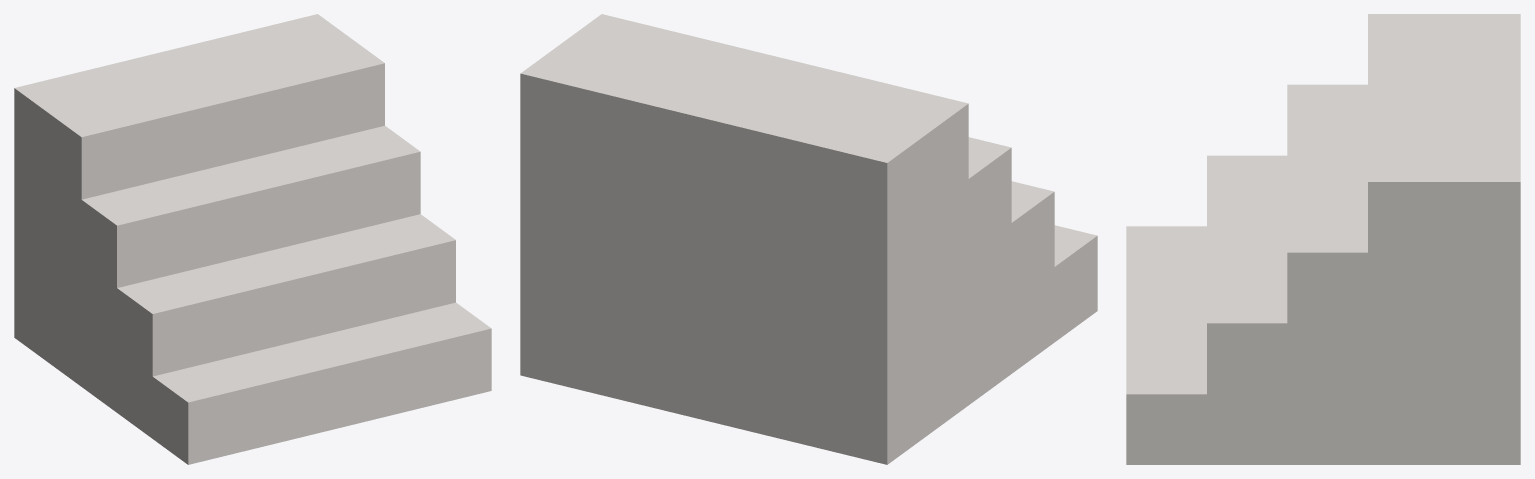
Rendered from terrain2.fbx.
The picture shows the model from 3 angles, left to right: view 1: azimuth 30°, elevation 25°; view 2: azimuth 150°, elevation 25°; view 3: azimuth 270°, elevation 25°; orthographic projection. The views are drawn at different scales.
Parts seen in each view (by area): view 1: terrain2; view 2: terrain2; view 3: terrain2.
Part boxes in pixels (left/top/right/bottom): terrain2: left=14, top=14, right=491, bottom=464; terrain2: left=520, top=14, right=1097, bottom=464; terrain2: left=1126, top=14, right=1520, bottom=464.
Size of the model in its own units: 284 by 223 by 281.
